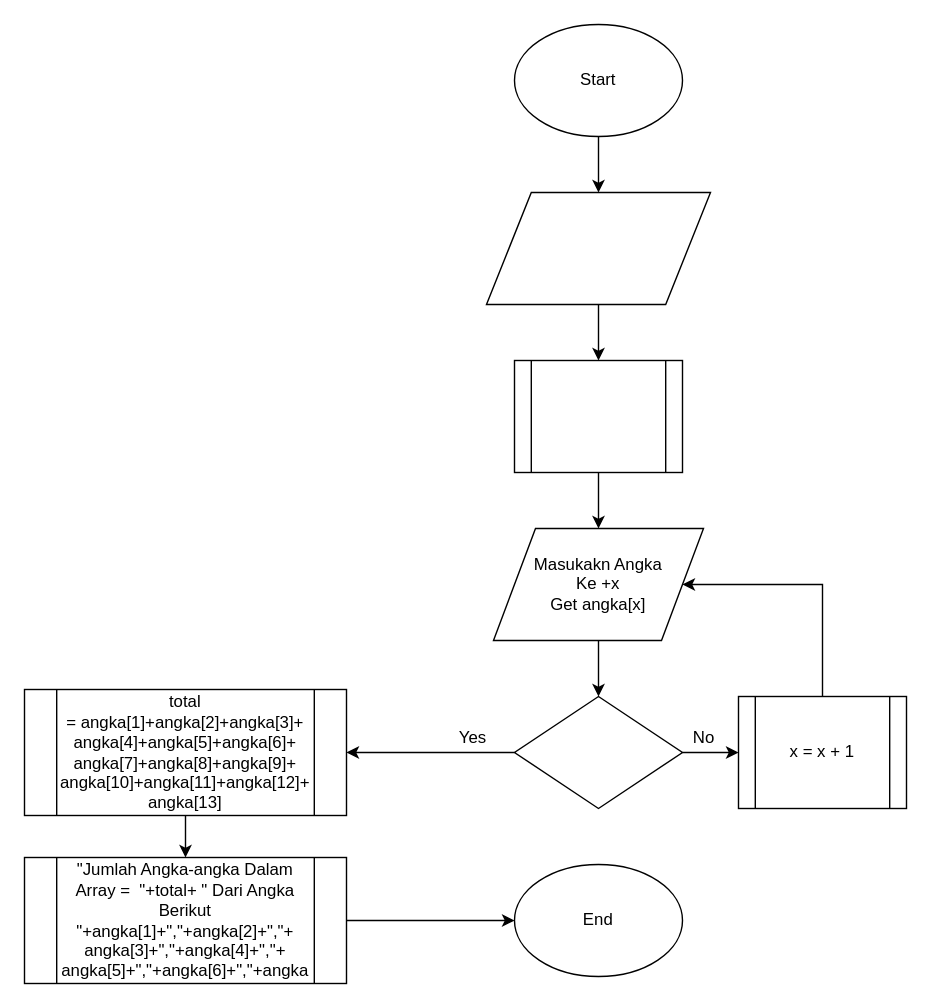
Some shapes in this 931 by 1008 pixel diagram are drawn without their labels. Here are the shapes that lost their labels. From the top down, the centre of each, then its label:
point 597,247: Masukkan Banyak Angka Get data
point 597,415: x = 1
point 597,751: x = data
